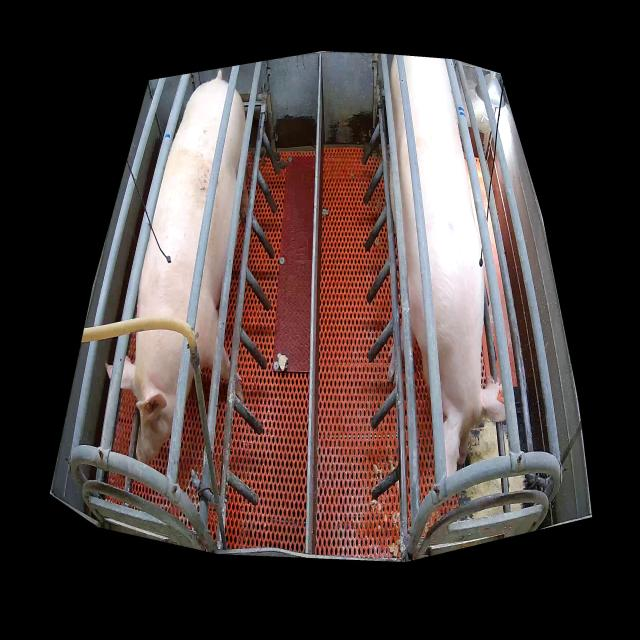pig: (388, 55, 506, 477), (121, 80, 248, 463)
